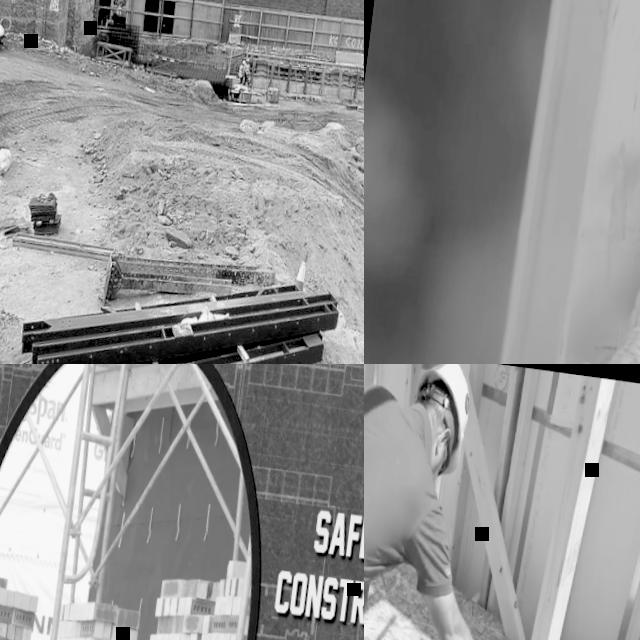Hardhat: (409, 364, 475, 476), (242, 58, 246, 63), (246, 57, 250, 61)
NO-Safety Vest: (364, 369, 442, 625)
Person: (364, 364, 534, 640), (242, 56, 253, 86), (237, 58, 245, 83)
Safety Cone: (292, 248, 308, 292)
Safety Vest: (238, 63, 246, 76), (244, 63, 249, 71)
vehicle: (0, 6, 7, 51)
